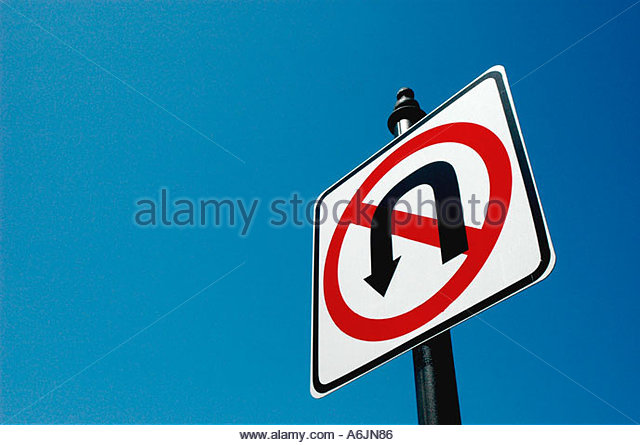No_u_turn: (324, 122, 513, 342)
